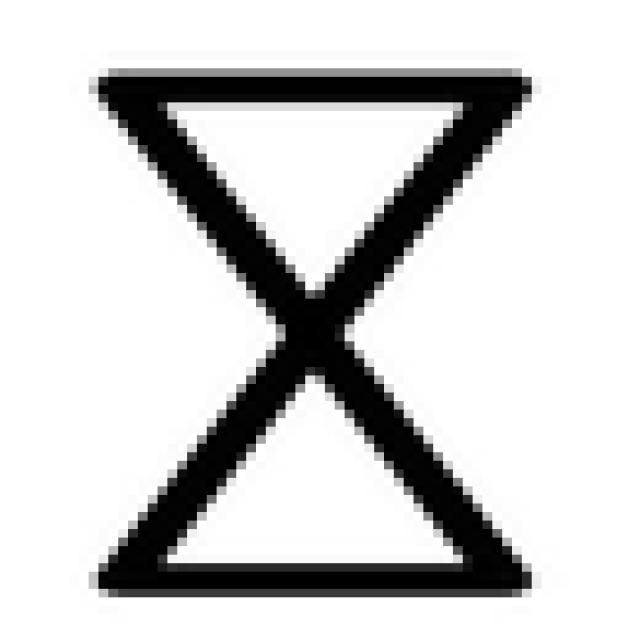Gate valve: (118, 87, 521, 576)
